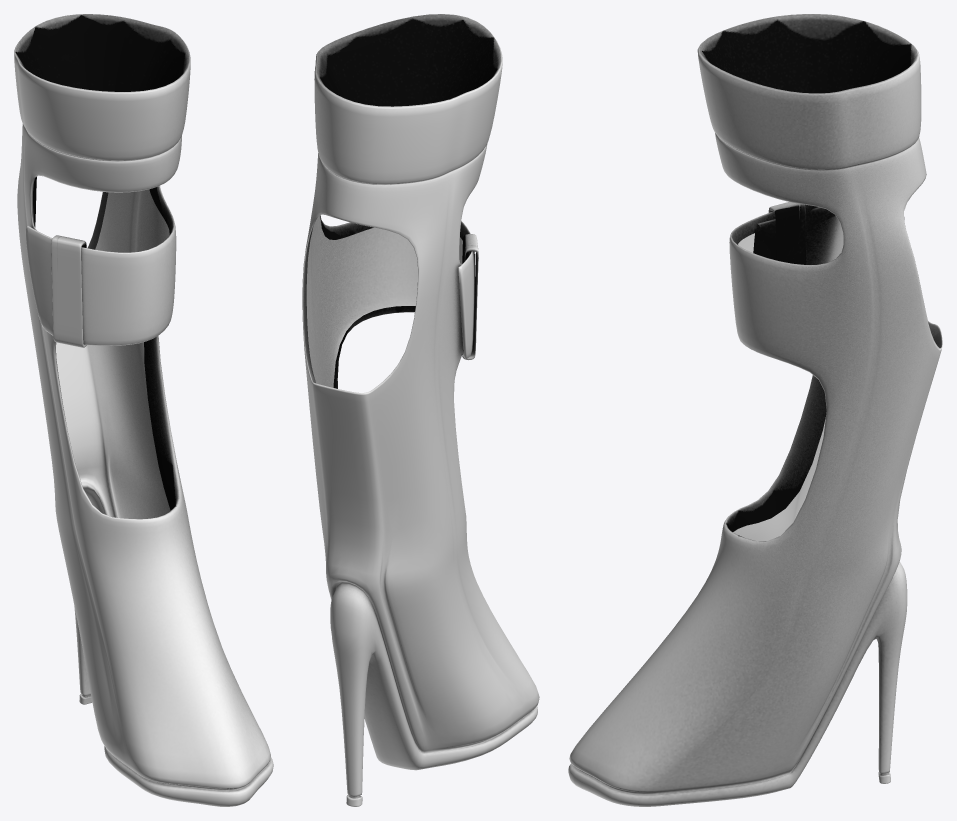
File: ShoeR.dae
3 renders of one model, left to right at view 1: azimuth 30°, elevation 25°; view 2: azimuth 150°, elevation 25°; view 3: azimuth 270°, elevation 25°, orthographic. The views are drawn at different scales.
Parts seen in each view (by area): view 1: prim0; view 2: prim0; view 3: prim0.
Boxes of the visible parts, x1=… form: prim0: x1=14, y1=14, x2=273, y2=806; prim0: x1=302, y1=14, x2=539, y2=806; prim0: x1=568, y1=14, x2=942, y2=806.
Bounding box in the file's own units: 0.0962 × 0.1834 × 0.3914.
Materials: 2 (2 with a texture image).
